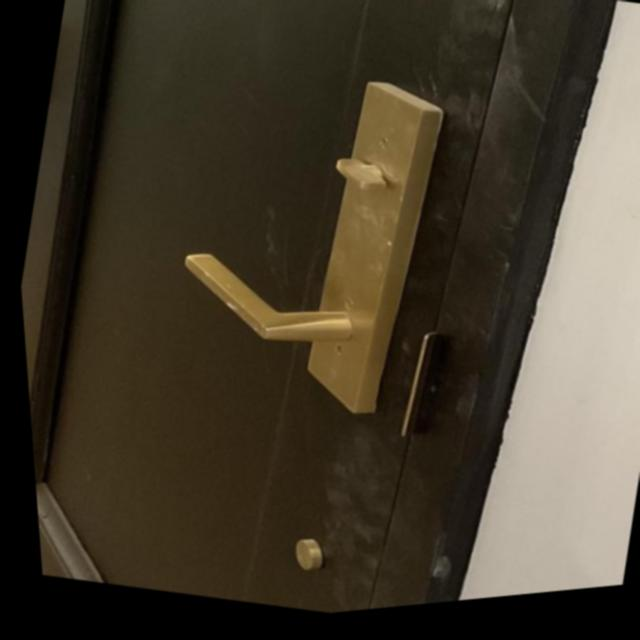door_handle: (144, 220, 397, 392)
